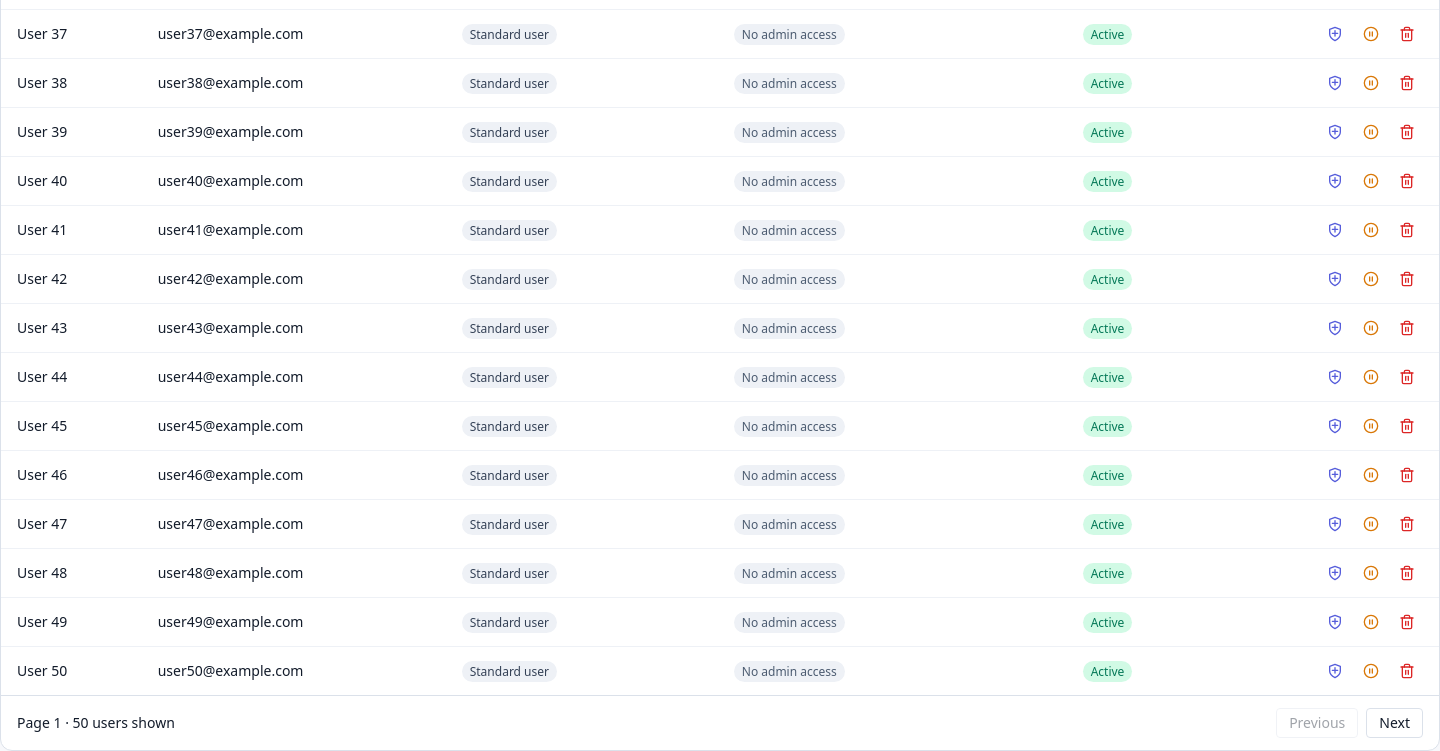
Test: UsersPage pagination › makes a user beyond the first server page reachable
(page scrolled)
Check: the text "User 51" is not shown
Click the button "Next".
click(1395, 723)  # box [1366,708,1423,738]
(page scrolled)
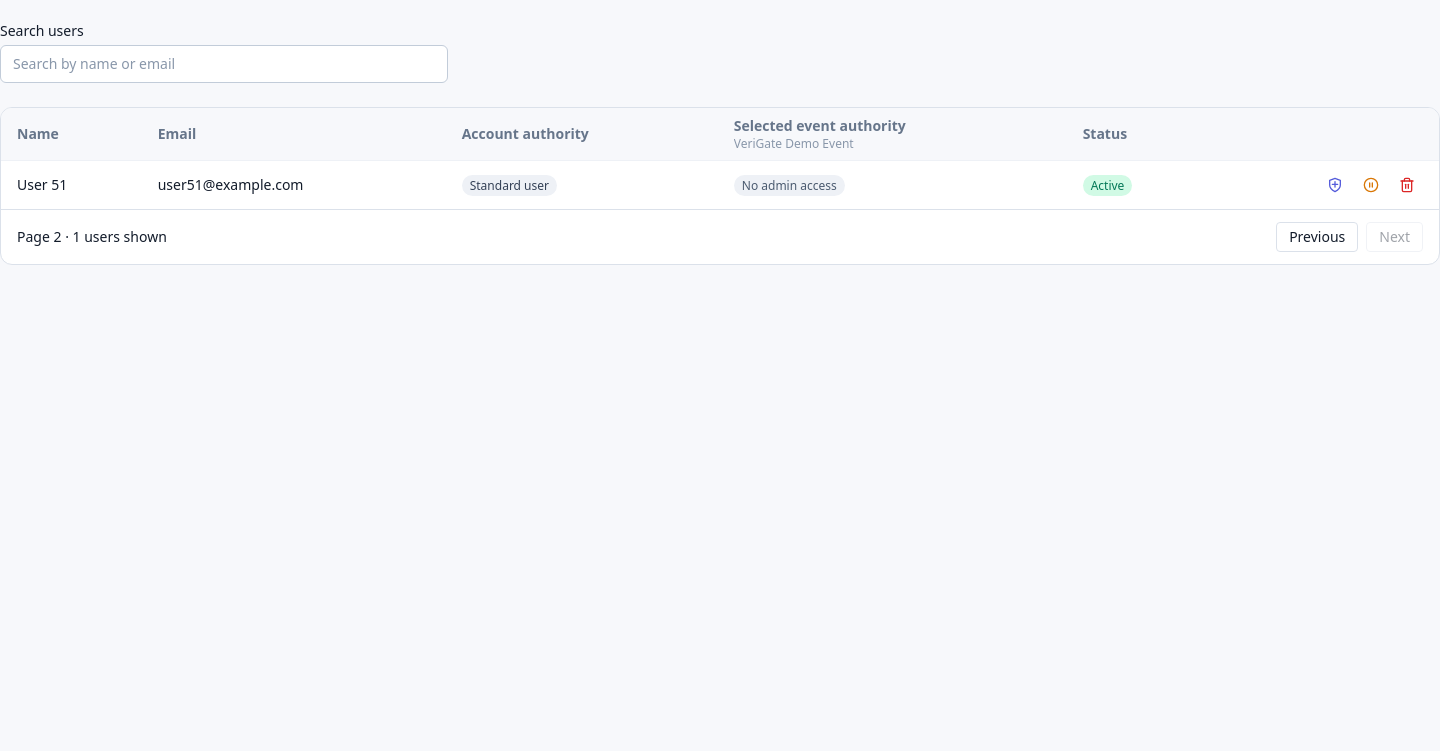
Check: the text "User 51" is shown, box [1,160,142,209]
Check: the text "Page 2 · 1 users shown" is shown, box [17,227,167,247]
